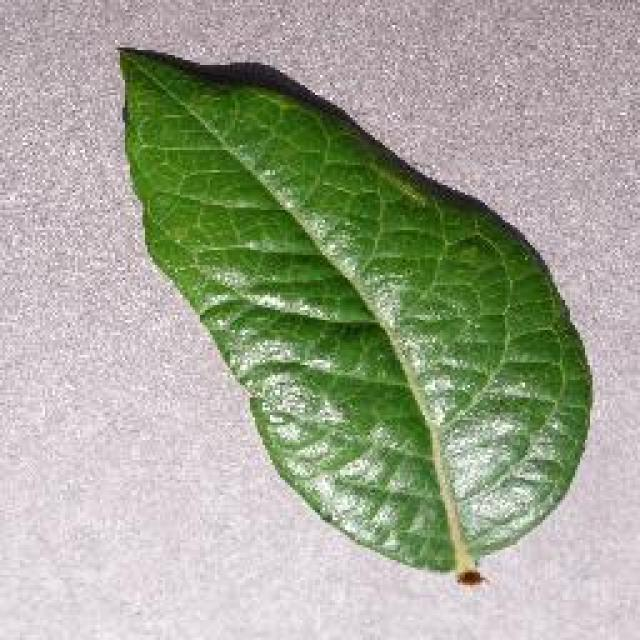Blu_healthy: (130, 109, 556, 494)
